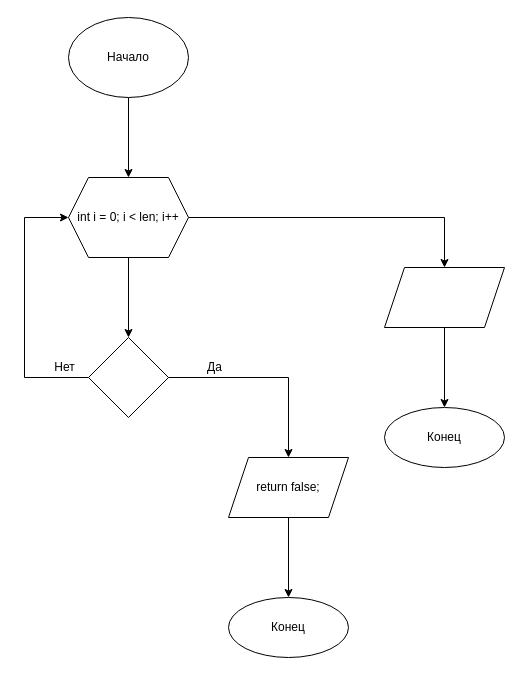
Some shapes in this 522 by 675 pixel diagram are drawn without their labels. The centre of each missing label's shape, as x and y in pixels:
"return true;" belongs at pixel 444 297.
"word[i] != ' '" belongs at pixel 128 377.
